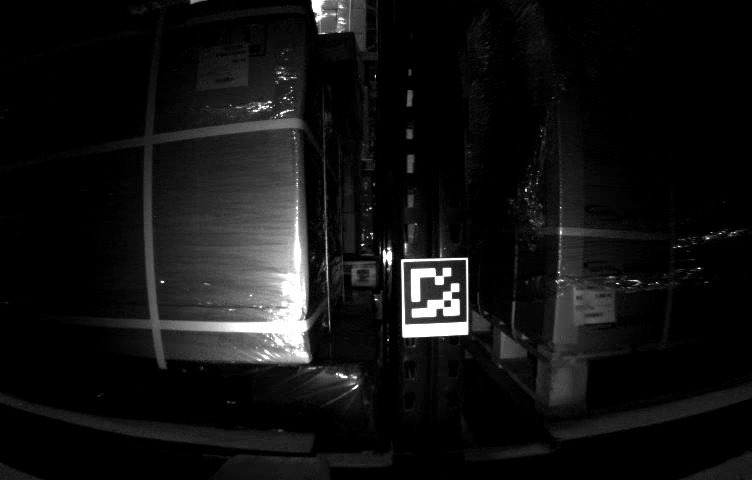True Barcode: (199, 48, 248, 88)
